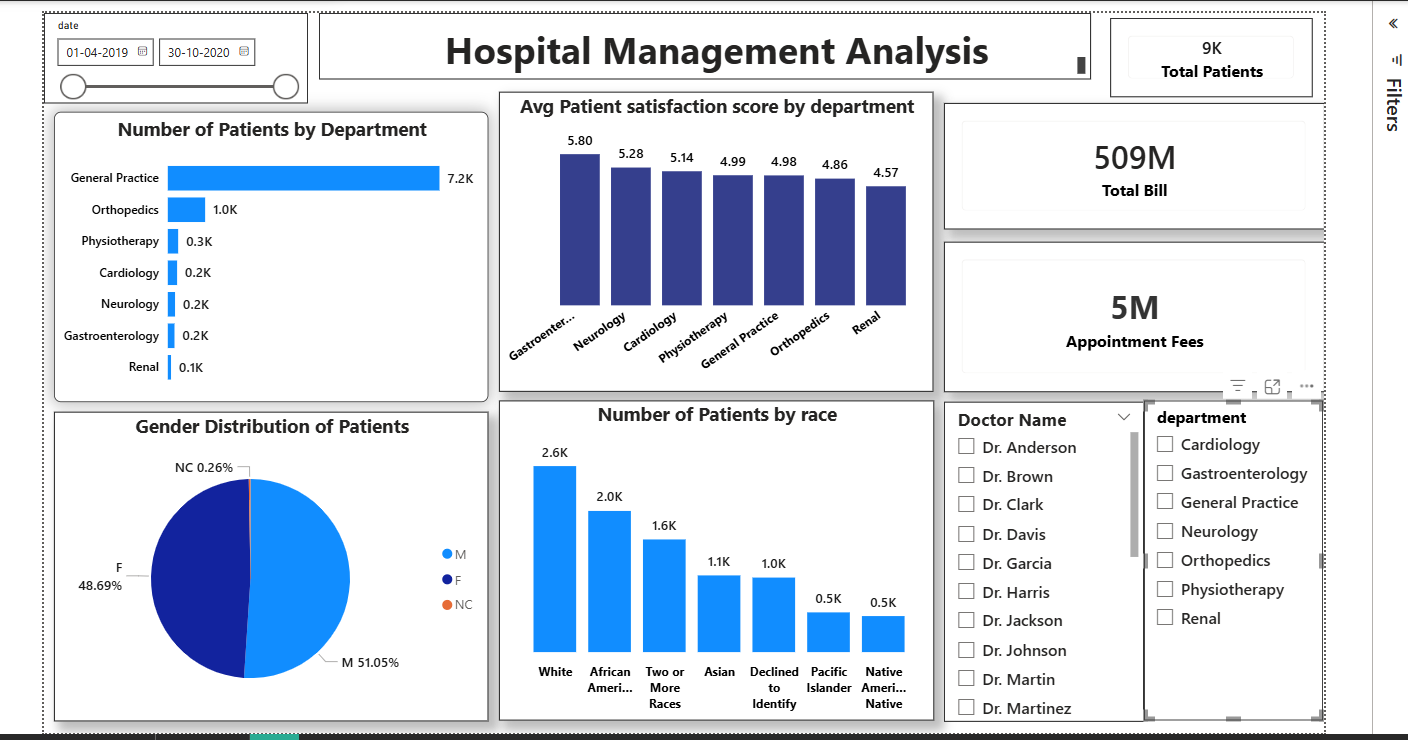

The dashboard page shown, as its layout file describes it:
{"tool":"powerbi","page":{"name":"Page 1","canvas":[1280,720],"ordinal":0},"visuals":[{"type":"barChart","title":"Number of Patients by Department","fields":{"Category":["Hospital ER.department_referral"],"Y":["Hospital ER.patient_id"]},"box":[9.7,98.6,434.7,290.3],"z":0},{"type":"pieChart","title":"Gender Distribution of Patients","fields":{"Category":["Hospital ER.patient_gender"],"Y":["Hospital ER.patient_id"]},"box":[9.7,398.6,434.7,309.7],"z":1000},{"type":"columnChart","title":"Avg Patient satisfaction score by department","fields":{"Category":["Doctor.department_referral"],"Y":["Hospital ER.patient_sat_score"]},"box":[455.6,79.2,434.7,300],"z":2000},{"type":"columnChart","title":"Number of Patients by race","fields":{"Y":["Hospital ER.patient_id"],"Category":["Hospital ER.patient_race"]},"box":[455,388,435,320],"z":3000},{"type":"cardVisual","fields":{"Data":["Doctor.Total Bill"]},"box":[900,90.3,380.6,126.4],"z":4000},{"type":"cardVisual","fields":{"Data":["Doctor.Appointment Fees"]},"box":[900,229.2,380.6,150],"z":5000},{"type":"slicer","fields":{"Values":["Doctor.Doctor Name"]},"box":[900.2,388.3,200.3,319.7],"z":6000},{"type":"slicer","fields":{"Values":["Hospital ER.date"]},"box":[0,0,263.9,90.3],"z":7000},{"type":"slicer","fields":{"Values":["Hospital ER.department_referral"]},"box":[1100,387.5,179.2,319.4],"z":8000},{"type":"textbox","box":[275,0,772.2,66.7],"z":9000},{"type":"cardVisual","fields":{"Data":["Hospital ER.Total Patients"]},"box":[1066.7,5.6,202.8,79.2],"z":10000}]}

Visuals, with their boxes in screenshot pixels (x1, y1, x2, y2):
"Number of Patients by Department" barChart: BBox(39, 107, 480, 402)
"Gender Distribution of Patients" pieChart: BBox(39, 412, 480, 726)
"Avg Patient satisfaction score by department" columnChart: BBox(492, 88, 933, 392)
"Number of Patients by race" columnChart: BBox(491, 401, 932, 726)
cardVisual - Doctor.Total Bill: BBox(942, 99, 1328, 227)
cardVisual - Doctor.Appointment Fees: BBox(942, 240, 1328, 392)
slicer - Doctor.Doctor Name: BBox(943, 401, 1146, 726)
slicer - Hospital ER.date: BBox(29, 7, 297, 99)
slicer - Hospital ER.department_referral: BBox(1145, 400, 1327, 724)
textbox: BBox(308, 7, 1092, 75)
cardVisual - Hospital ER.Total Patients: BBox(1111, 13, 1317, 93)
